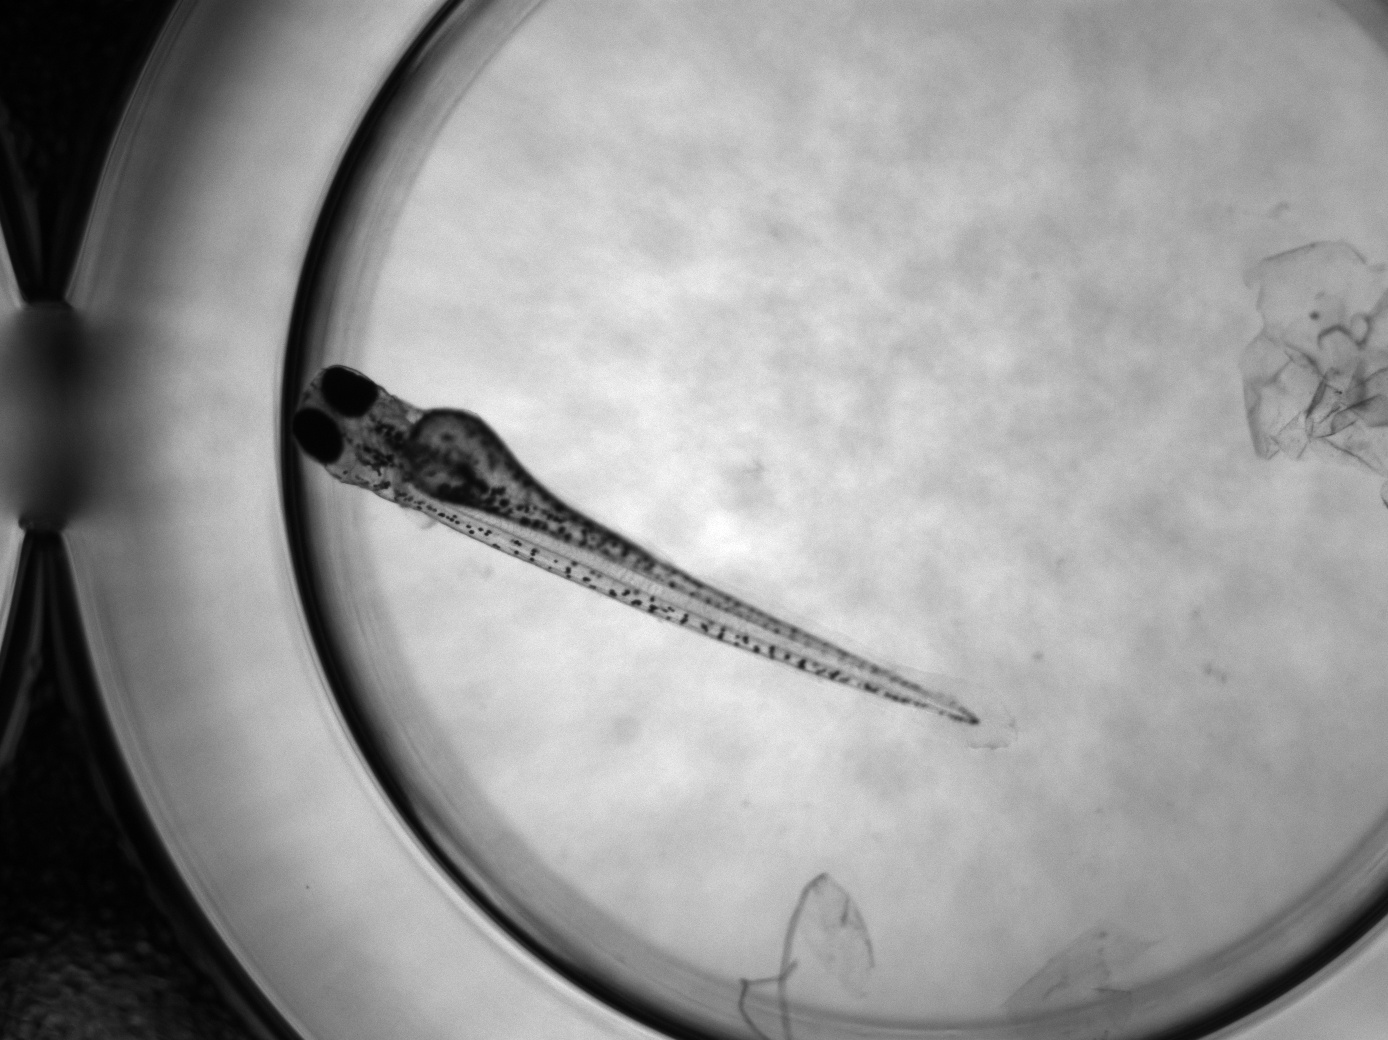debris: (1245, 240, 1388, 477), (737, 868, 875, 1040)
embryo: (293, 366, 983, 728)
eye: (294, 407, 343, 465), (323, 367, 378, 416)
yolksac: (405, 407, 522, 513)
